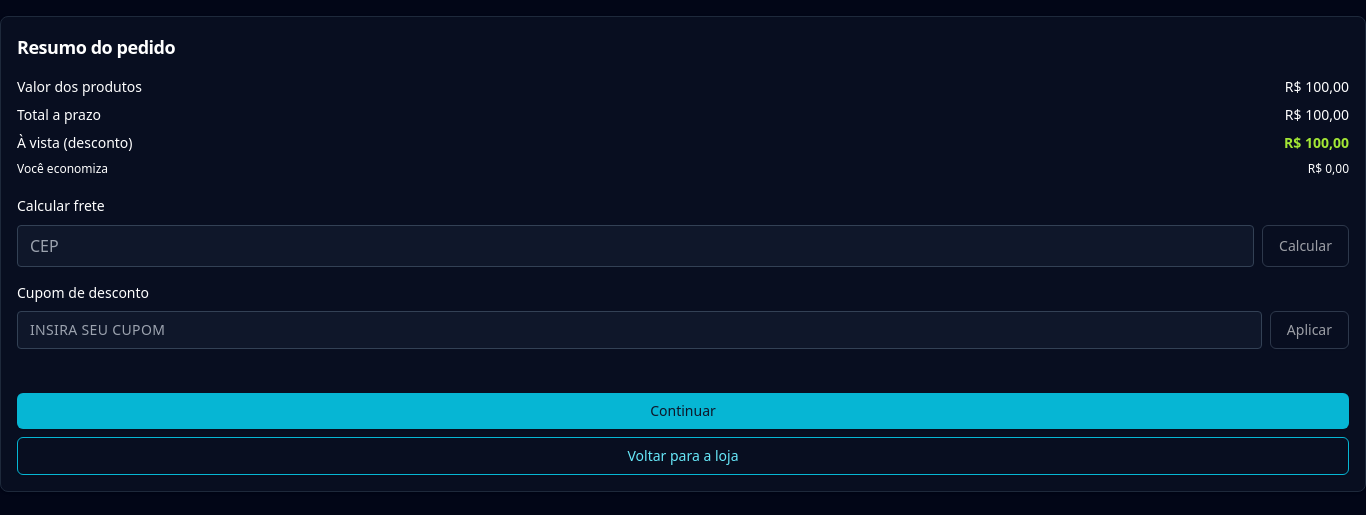
Test case: CouponForm UI integration › applies a valid coupon and shows updated badge
Type "save10" into the field with placeholder "INSIRA SEU CUPOM" at x=639, y=330, box [17,311,1262,349]
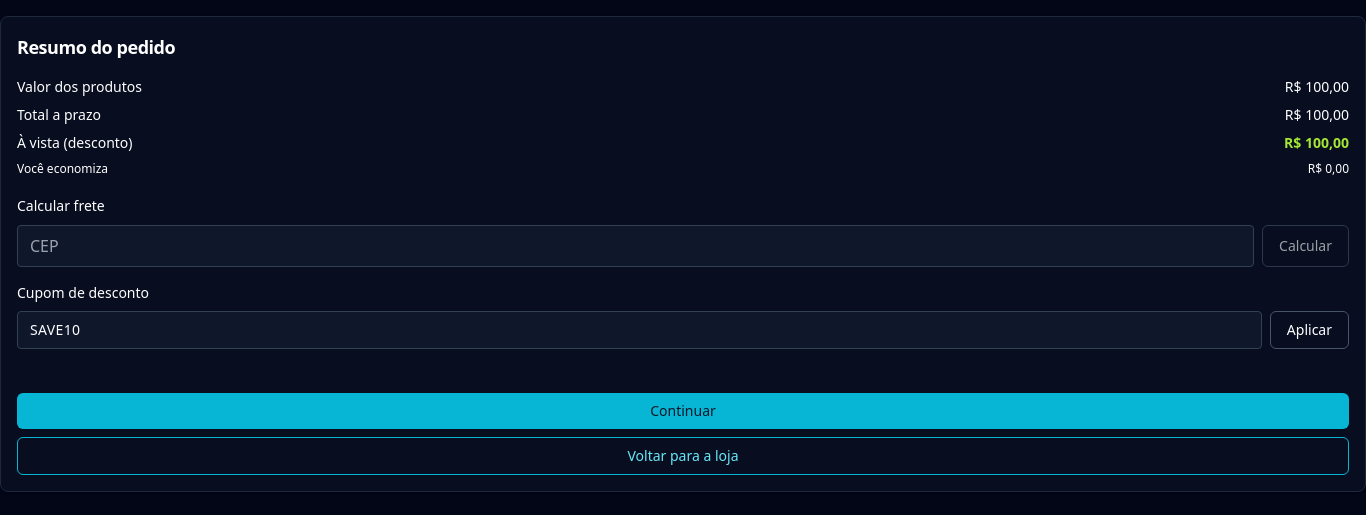
Click the button "Aplicar" at x=1309, y=330, box [1270,311,1349,349]
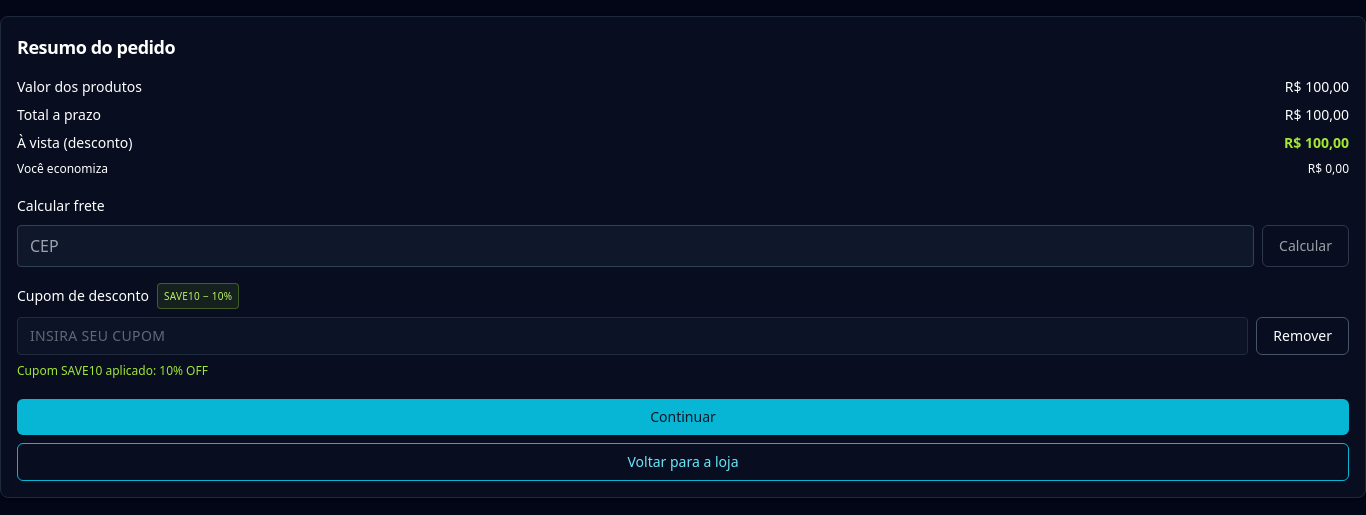
Expected: the text "Cupom SAVE10 aplicado: 10% OFF" is shown, [17,362,208,379]
